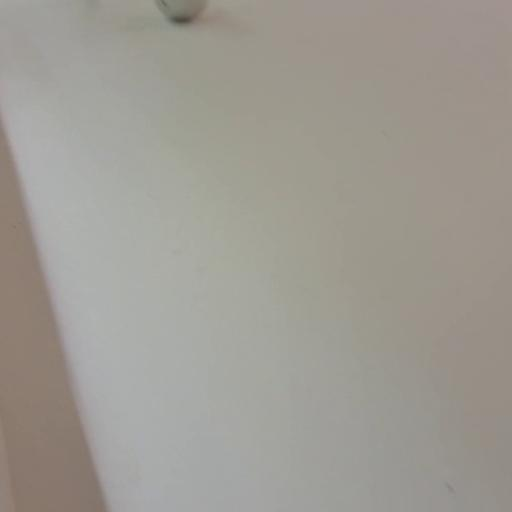alive: (151, 0, 210, 23)
